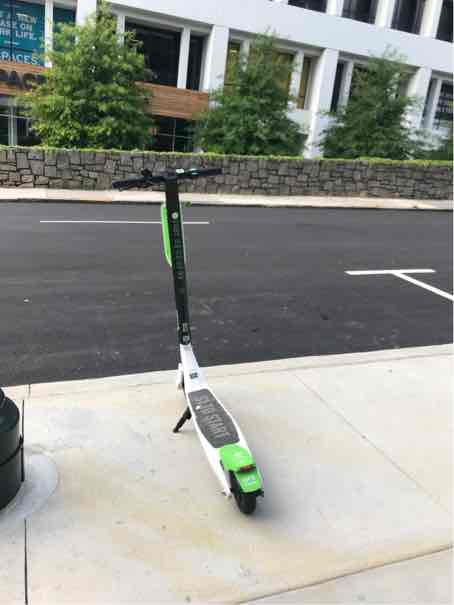scooter: (98, 161, 284, 528)
